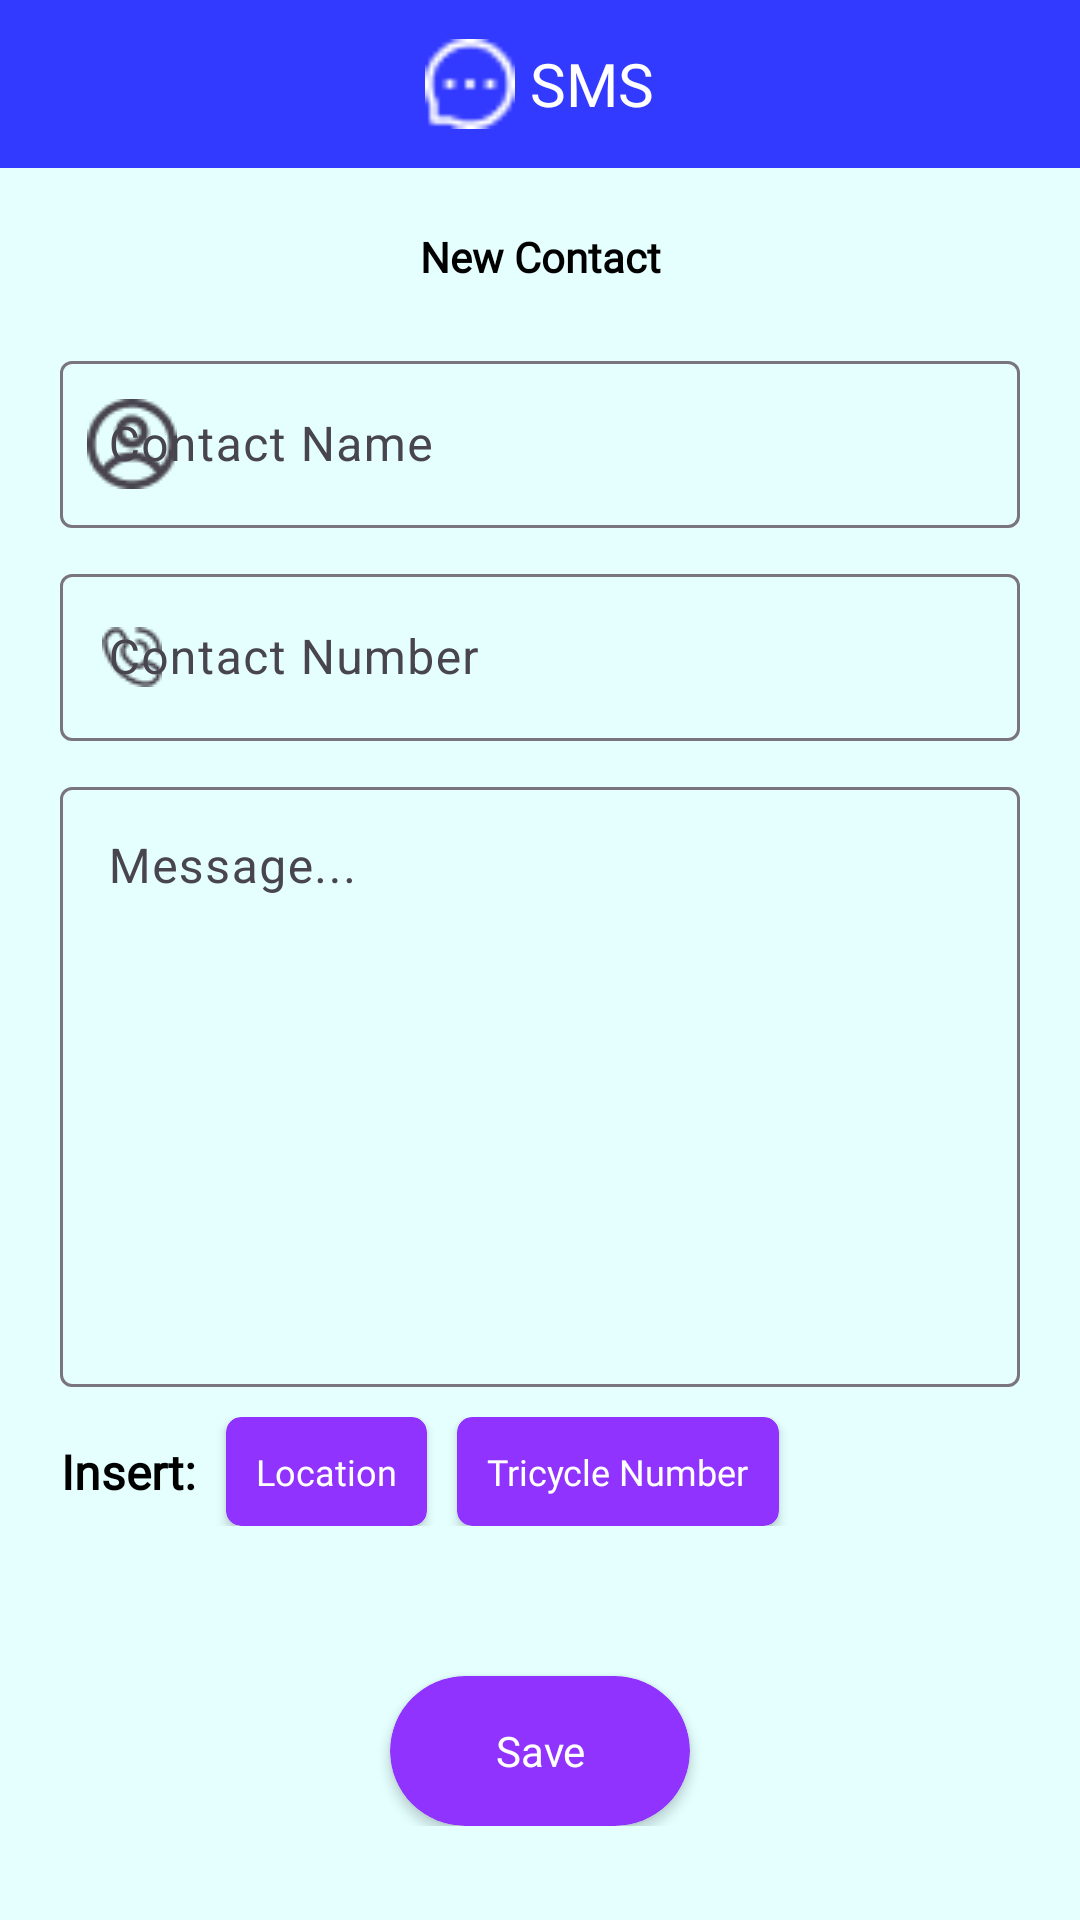

Icon click points for this 1080px×1920px phone screenshot, format (x,y):
message: (470,84)
